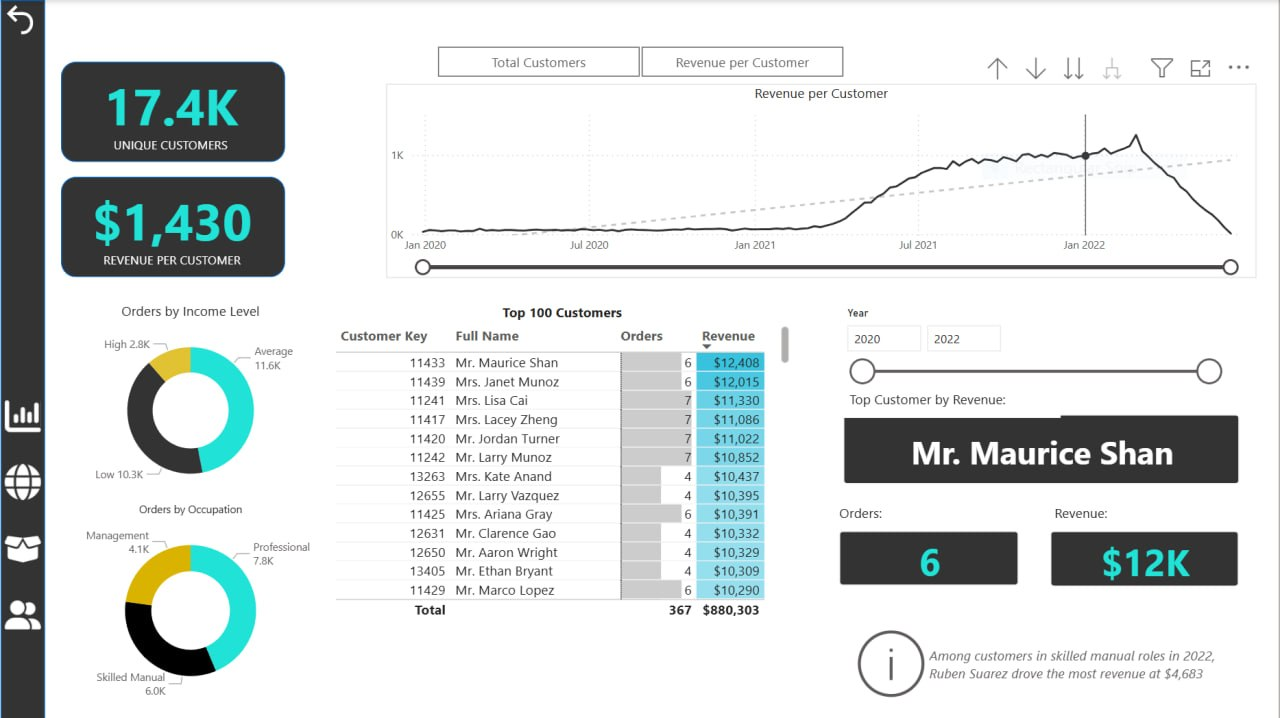

The page's visual inventory and layout, read from the dashboard file:
{"tool":"powerbi","page":{"name":"Customer Detail","canvas":[1280,720],"ordinal":3},"visuals":[{"type":"shape","box":[0,0,44.3,721],"z":0},{"type":"actionButton","box":[0,390.3,44.3,54.5],"z":0,"group":"g1"},{"type":"card","fields":{"Values":["Measure Table.Return Rate"]},"box":[44.4,152.4,255.5,150],"z":1000},{"type":"actionButton","box":[0,456.8,44.3,54.5],"z":1000,"group":"g1"},{"type":"card","fields":{"Values":["Measure Table.Total Orders"]},"box":[43.2,37.8,255.5,150],"z":2000},{"type":"actionButton","box":[0,589.7,44.3,54.5],"z":2000,"group":"g1"},{"type":"shape","box":[60.9,62.2,224.4,100.7],"z":3000},{"type":"actionButton","box":[0,523.2,44.3,54.5],"z":3000,"group":"g1"},{"type":"card","fields":{"Values":["Measure Table.Total Customers"]},"box":[42.6,37.1,255.5,151.1],"z":4000},{"type":"shape","box":[60.9,176.8,224.4,100.7],"z":5000},{"type":"card","fields":{"Values":["Measure Table.Average Revenue per Customer"]},"box":[44.4,152.4,255.5,150],"z":6000},{"type":"lineChart","fields":{"Y":["Measure Table.Total Customers"],"Category":["Calendar Lookup.Date Hierarchy.Start of Year","Calendar Lookup.Date Hierarchy.Start of Month","Calendar Lookup.Date Hierarchy.Start of Week","Calendar Lookup.Date Hierarchy.Date"]},"box":[385.9,83.8,872.1,195],"z":7000},{"type":"donutChart","title":"Orders by Income Level","fields":{"Category":["Customer Lookup.Income Level"],"Y":["Measure Table.Total Orders"]},"box":[60.4,302.1,259.6,200.5],"z":8000},{"type":"donutChart","title":"Orders by Occupation","fields":{"Y":["Measure Table.Total Orders"],"Category":["Customer Lookup.Occupation"]},"box":[60.4,502.7,259.6,204.6],"z":9000},{"type":"tableEx","title":"Top 100 Customers","fields":{"Values":["Customer Lookup.CustomerKey","Customer Lookup.Full Name","Measure Table.Total Orders","Measure Table.Total Revenue"]},"box":[329.3,303.1,465.7,321],"z":10000},{"type":"cardVisual","fields":{"Data":["Measure Table.Full Name (Customer Detail)"]},"box":[826.8,398.3,431.2,104.4],"z":11000},{"type":"cardVisual","fields":{"Data":["Measure Table.Total Revenue"]},"box":[1034.2,515,223.9,90.6],"z":12000},{"type":"cardVisual","fields":{"Data":["Measure Table.Total Orders"]},"box":[822.7,515,214.2,89.3],"z":13000},{"type":"textbox","box":[795.2,385.9,266.4,33],"z":14000},{"type":"textbox","box":[835,499.9,214.2,28.8],"z":15000},{"type":"textbox","box":[1050.6,499.9,210.1,33],"z":16000},{"type":"slicer","fields":{"Values":["Calendar Lookup.Year"]},"box":[835,302.1,396.9,83.8],"z":17000},{"type":"actionButton","box":[850.5,623.8,381.8,83.5],"z":18000},{"type":"slicer","fields":{"Values":["Customer Metric Selection.Customer Metric Selection"]},"box":[412,39.8,456,43.9],"z":19000},{"type":"actionButton","box":[0,0,44.3,39.2],"z":20000},{"type":"group","id":"g1","title":"Navigation","box":[0,390.3,44.3,254],"z":21000}]}

Visuals, with their boxes on the page's 1280x720 design canvas (x1, y1, x2, y2). These are canvas units, not pixel positions in the 1280x718 screenshot, which may show the page scaled, cropped or inside an application window:
shape: pyautogui.locateOnScreen(0, 0, 44, 721)
actionButton: pyautogui.locateOnScreen(0, 390, 44, 445)
card - Measure Table.Return Rate: pyautogui.locateOnScreen(44, 152, 300, 302)
actionButton: pyautogui.locateOnScreen(0, 457, 44, 511)
card - Measure Table.Total Orders: pyautogui.locateOnScreen(43, 38, 299, 188)
actionButton: pyautogui.locateOnScreen(0, 590, 44, 644)
shape: pyautogui.locateOnScreen(61, 62, 285, 163)
actionButton: pyautogui.locateOnScreen(0, 523, 44, 578)
card - Measure Table.Total Customers: pyautogui.locateOnScreen(43, 37, 298, 188)
shape: pyautogui.locateOnScreen(61, 177, 285, 278)
card - Measure Table.Average Revenue per Customer: pyautogui.locateOnScreen(44, 152, 300, 302)
lineChart - Measure Table.Total Customers x Calendar Lookup.Date Hierarchy.Start of Year: pyautogui.locateOnScreen(386, 84, 1258, 279)
"Orders by Income Level" donutChart: pyautogui.locateOnScreen(60, 302, 320, 503)
"Orders by Occupation" donutChart: pyautogui.locateOnScreen(60, 503, 320, 707)
"Top 100 Customers" tableEx: pyautogui.locateOnScreen(329, 303, 795, 624)
cardVisual - Measure Table.Full Name (Customer Detail): pyautogui.locateOnScreen(827, 398, 1258, 503)
cardVisual - Measure Table.Total Revenue: pyautogui.locateOnScreen(1034, 515, 1258, 606)
cardVisual - Measure Table.Total Orders: pyautogui.locateOnScreen(823, 515, 1037, 604)
textbox: pyautogui.locateOnScreen(795, 386, 1062, 419)
textbox: pyautogui.locateOnScreen(835, 500, 1049, 529)
textbox: pyautogui.locateOnScreen(1051, 500, 1261, 533)
slicer - Calendar Lookup.Year: pyautogui.locateOnScreen(835, 302, 1232, 386)
actionButton: pyautogui.locateOnScreen(850, 624, 1232, 707)
slicer - Customer Metric Selection.Customer Metric Selection: pyautogui.locateOnScreen(412, 40, 868, 84)
actionButton: pyautogui.locateOnScreen(0, 0, 44, 39)
"Navigation" group: pyautogui.locateOnScreen(0, 390, 44, 644)
